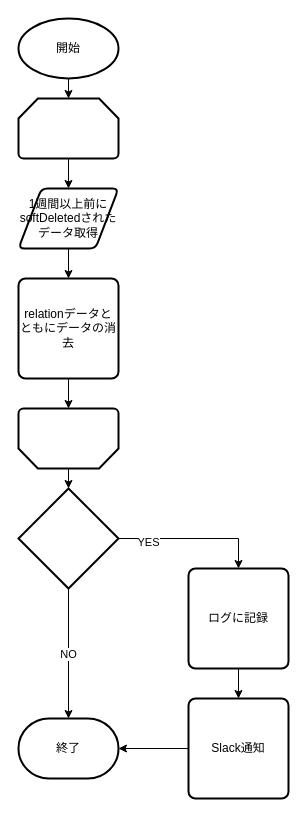
This 306x816 diagram has some shape labels left out. Here are the shapes that lost their labels. From the top down, the centre of each, then its label:
(68,128): softDeletedテーブル
(68,438): sofeDeletedテーブル
(68,538): エラー？
